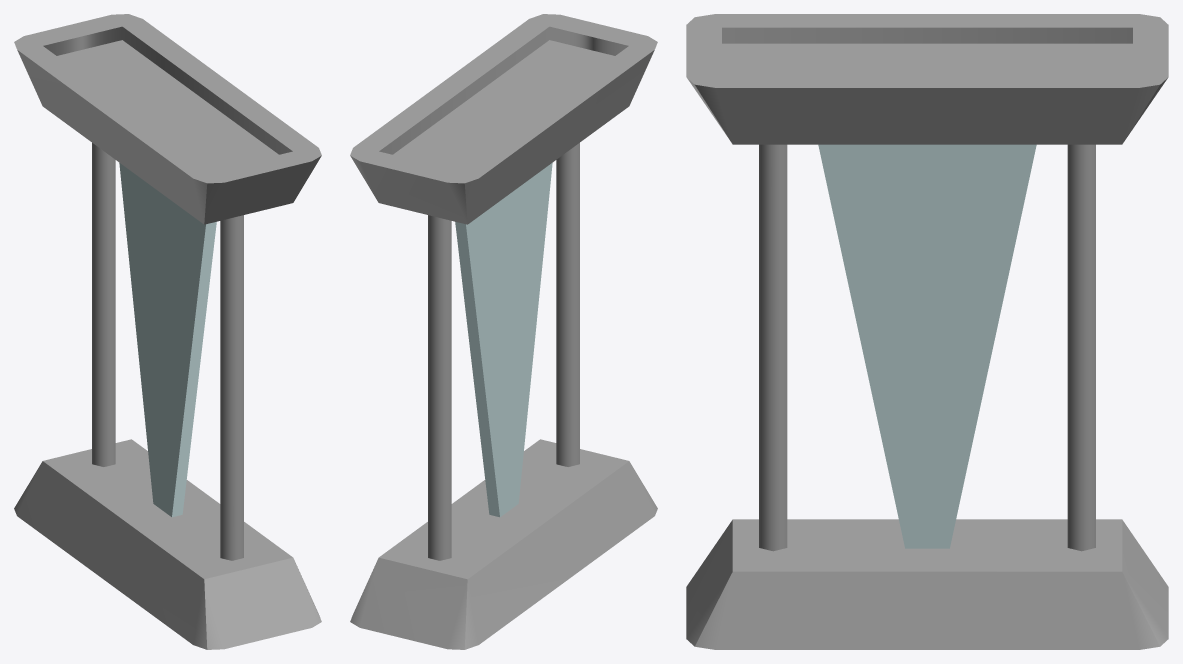
Rendered from GlassWall_V.fbx.
3 renders of one model, left to right at view 1: azimuth 30°, elevation 25°; view 2: azimuth 150°, elevation 25°; view 3: azimuth 270°, elevation 25°, orthographic. The views are drawn at different scales.
Parts seen in each view (by area): view 1: Table_Top, Table_Bottom, Glass, Pillar_Right2, Pillar_Right; view 2: Table_Top, Table_Bottom, Glass, Pillar_Right, Pillar_Right2; view 3: Table_Top, Table_Bottom, Glass, Pillar_Right, Pillar_Right2.
Part boxes in pixels (bbox=[...]): Table_Top: bbox=[14, 14, 321, 224]; Table_Bottom: bbox=[14, 439, 321, 649]; Glass: bbox=[119, 163, 216, 517]; Pillar_Right2: bbox=[220, 215, 243, 560]; Pillar_Right: bbox=[92, 143, 115, 466]; Table_Top: bbox=[350, 14, 657, 224]; Table_Bottom: bbox=[350, 439, 657, 649]; Glass: bbox=[455, 163, 552, 517]; Pillar_Right: bbox=[428, 215, 451, 560]; Pillar_Right2: bbox=[556, 143, 579, 466]; Table_Top: bbox=[686, 14, 1168, 144]; Table_Bottom: bbox=[686, 519, 1168, 649]; Glass: bbox=[818, 144, 1036, 548]; Pillar_Right: bbox=[1067, 144, 1095, 551]; Pillar_Right2: bbox=[759, 144, 787, 551].
Size of the model in its own units: 102 by 360 by 280.
